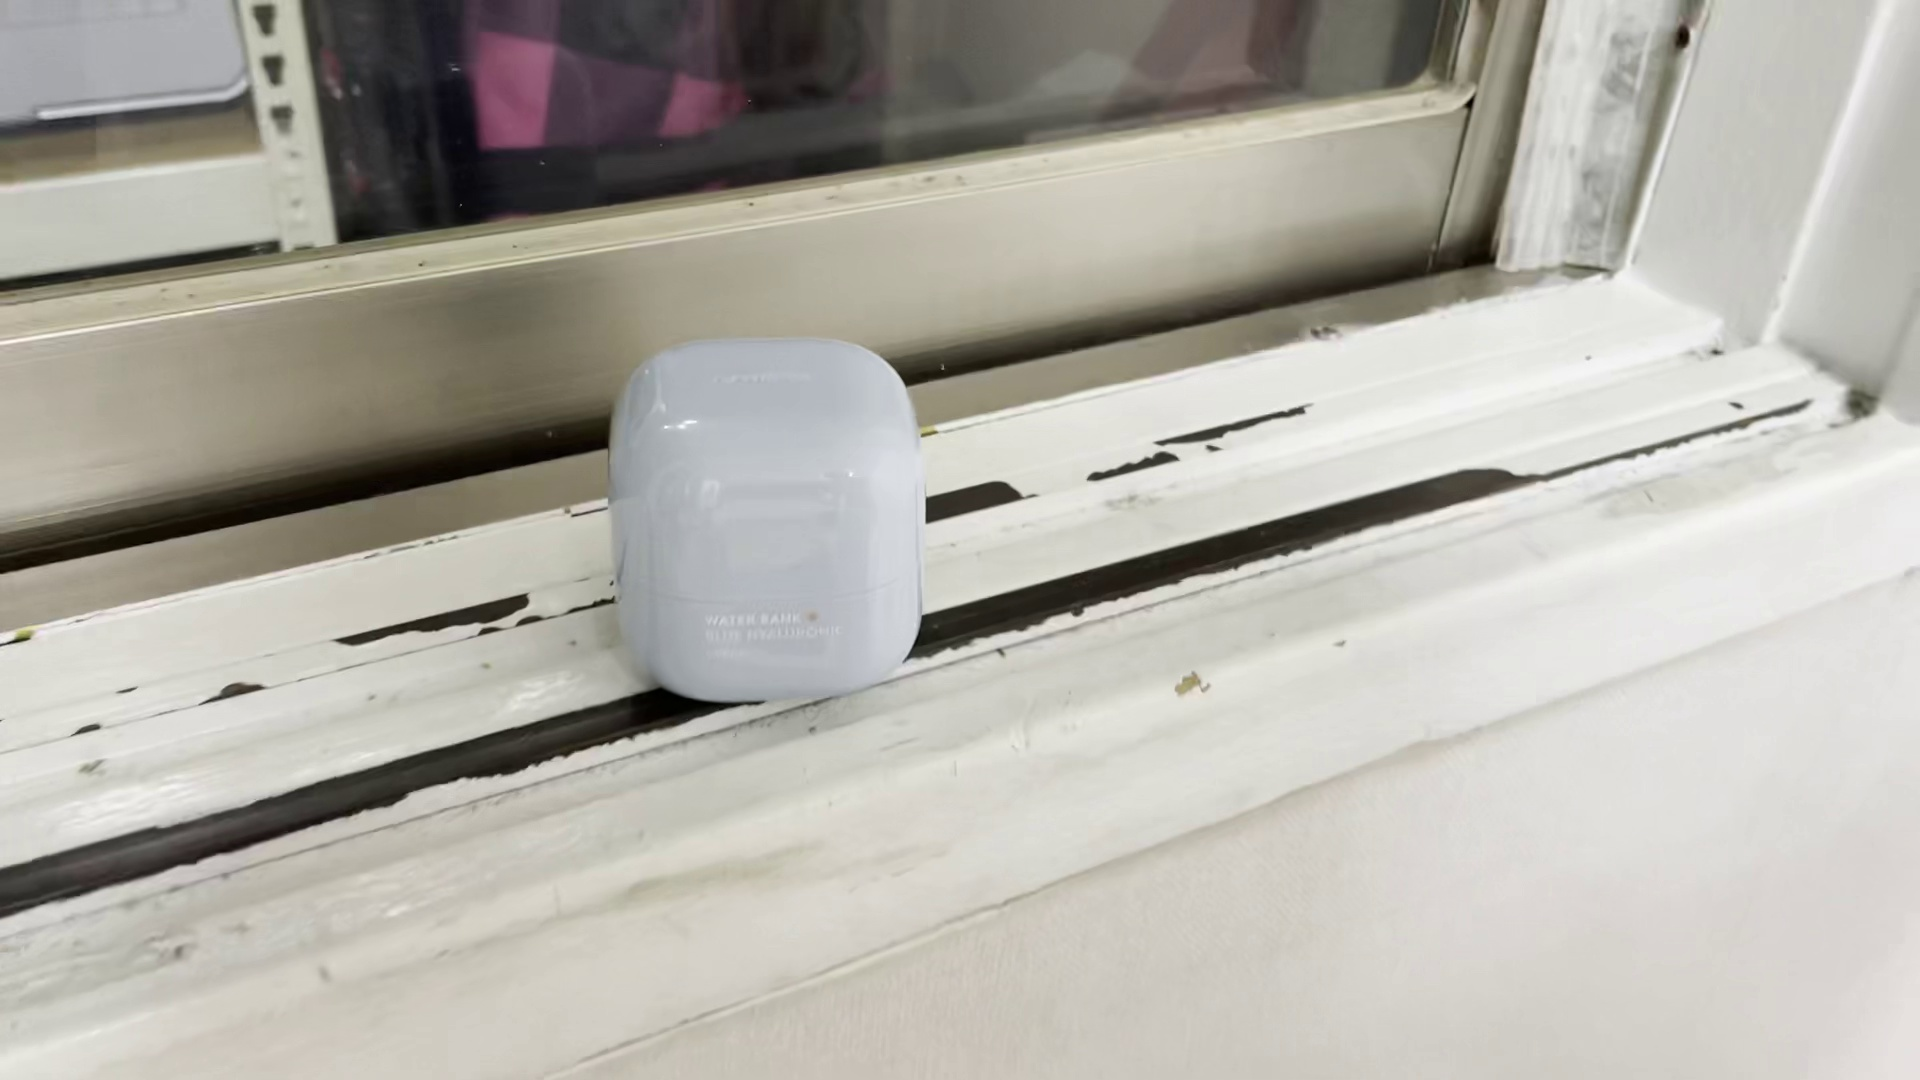cream: (615, 339, 924, 703)
